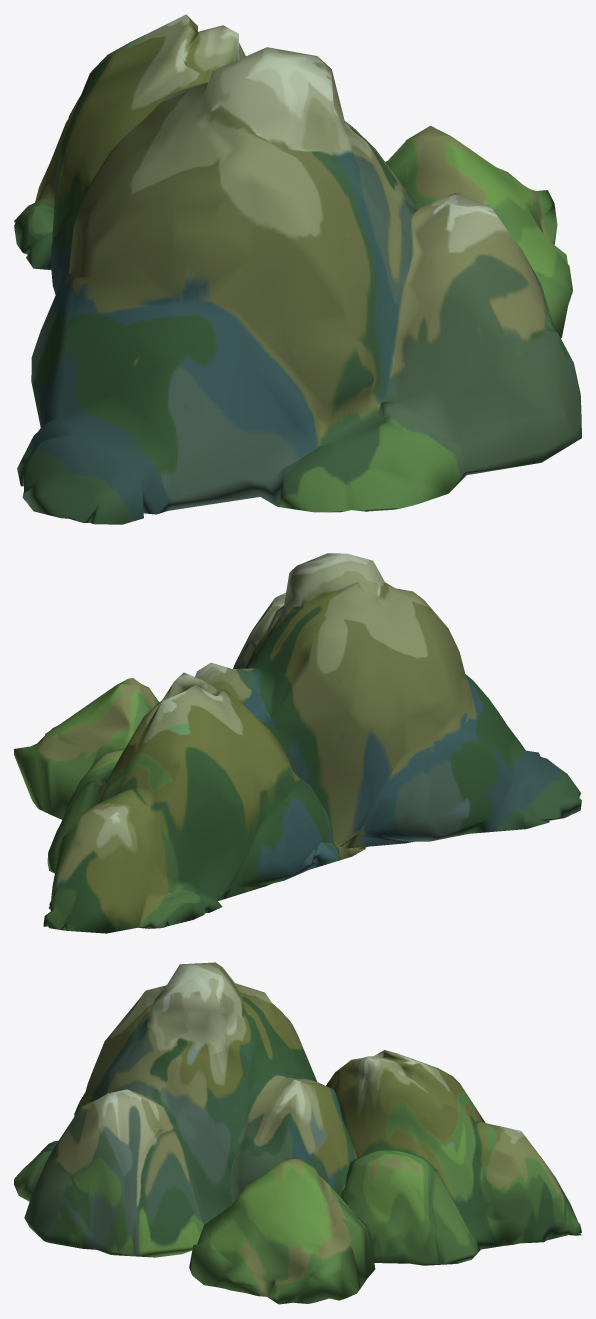
The model's file is SM_Mountains.fbx.
3 renders of one model, top to bottom at view 1: azimuth 30°, elevation 25°; view 2: azimuth 150°, elevation 25°; view 3: azimuth 270°, elevation 25°, orthographic. The views are drawn at different scales.
Visible parts, largest first — view 1: TexturedRock.004; view 2: TexturedRock.004; view 3: TexturedRock.004.
Part boxes in pixels (<box>): TexturedRock.004: <box>14,14,581,524</box>; TexturedRock.004: <box>14,553,581,933</box>; TexturedRock.004: <box>14,962,581,1304</box>.
Bounding box in the file's own units: 15681 × 7947 × 17982.
